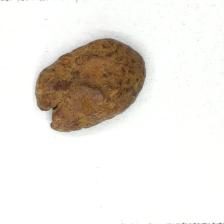NG: (35, 77, 76, 132)
